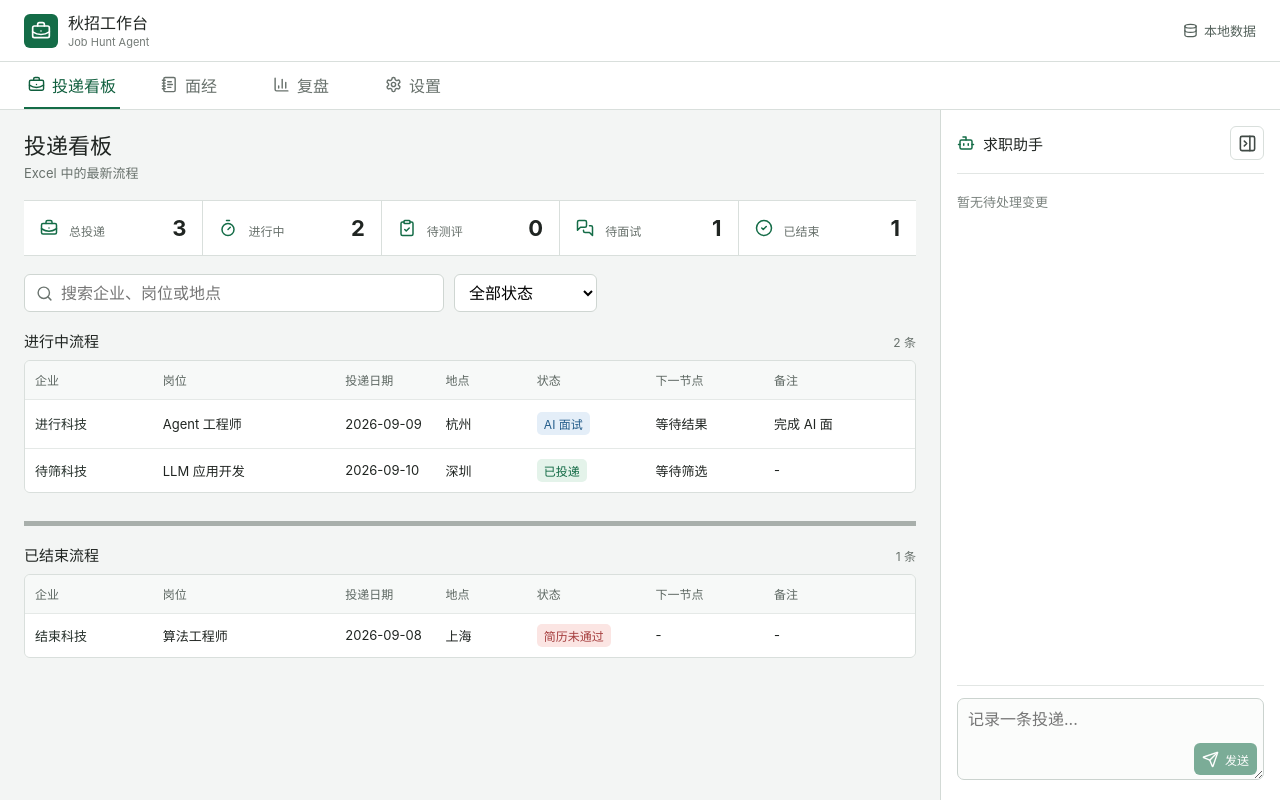
Test: AppShell › searches applications by company, role, and location
Expected: the text "进行科技" is shown, left=25, top=399, right=153, bottom=448
Type "深圳" into the search field named "搜索投递" at (246,293), box left=61, top=283, right=432, bottom=303
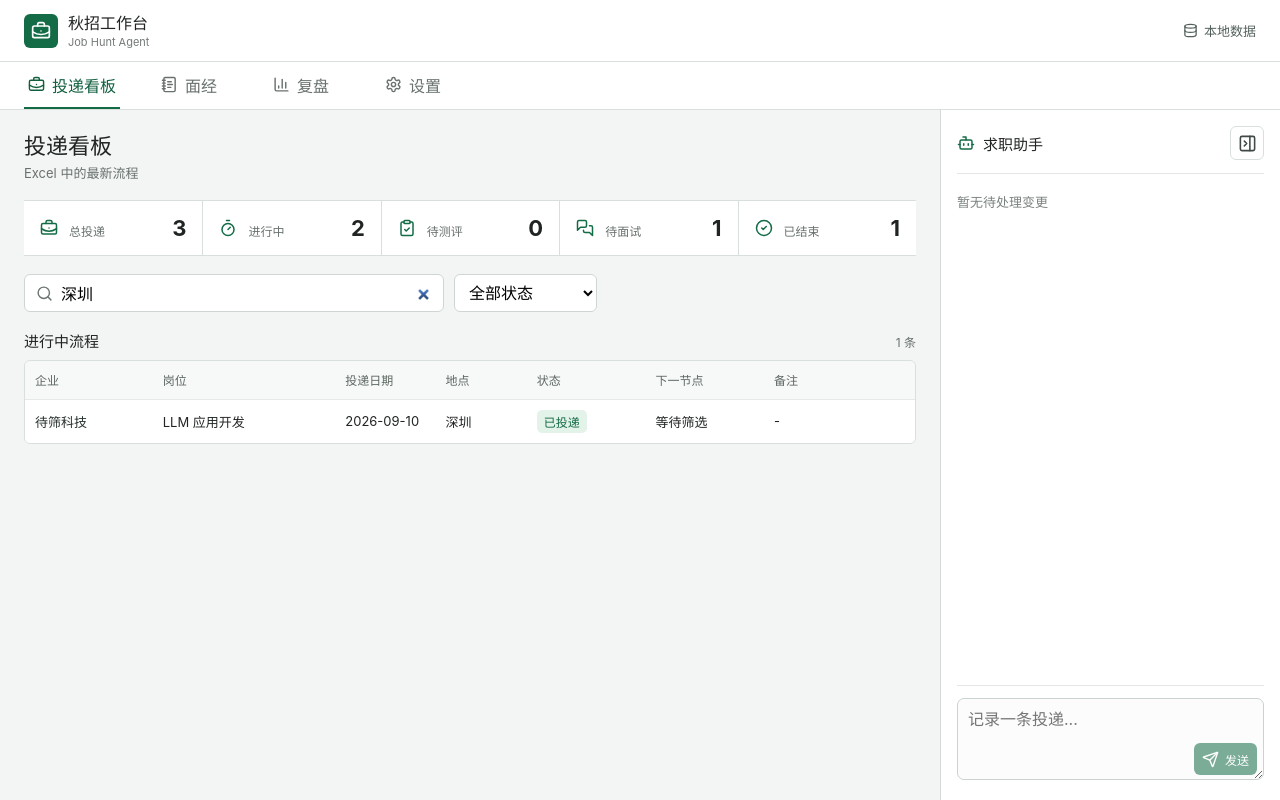
Expected: the text "待筛科技" is shown, left=25, top=399, right=153, bottom=443
Now the text "进行科技" is gone
Now the text "结束科技" is gone
